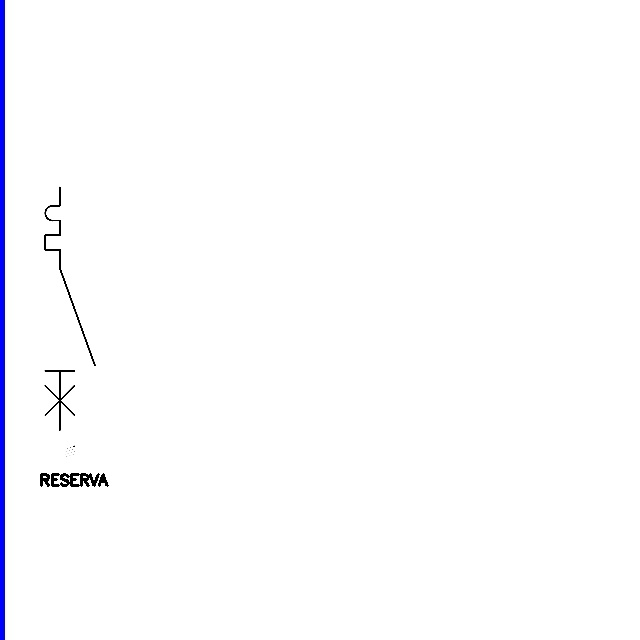interruptor_termomagnetico: (39, 181, 101, 436)
